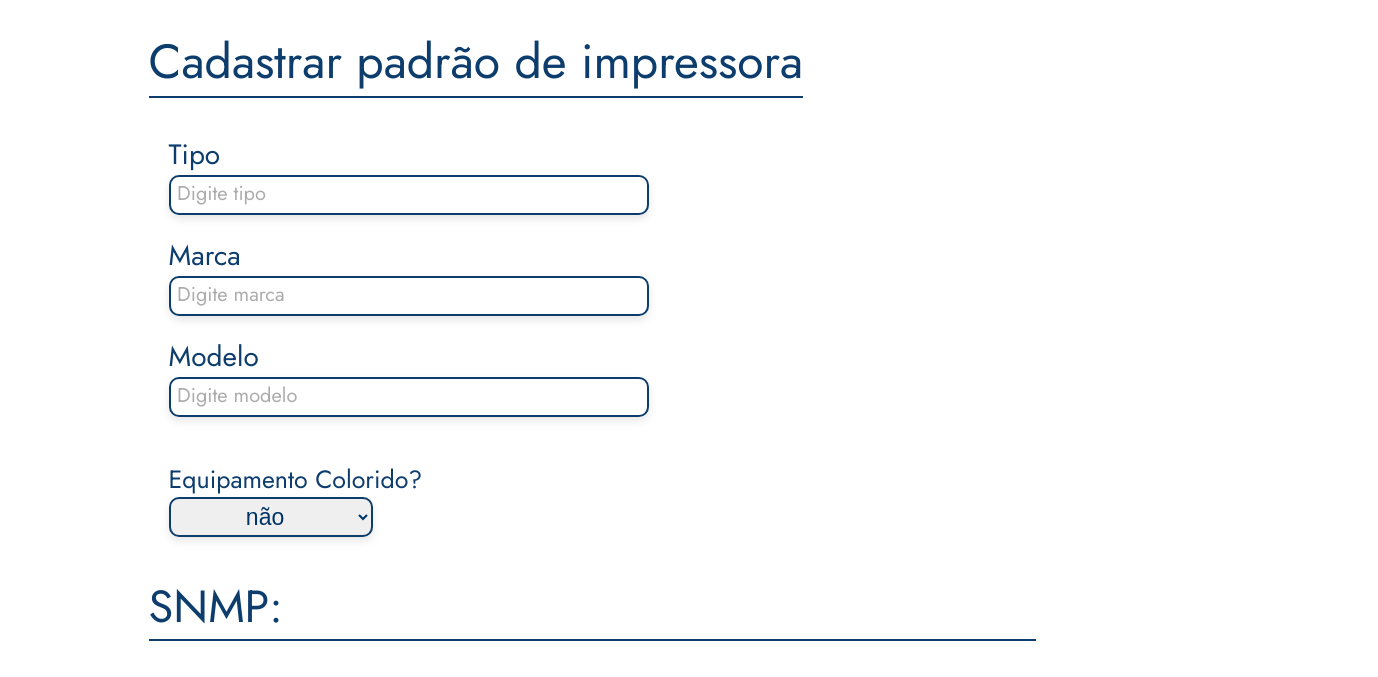
it: PatternPrinterPage › enables the submit button when all required fields are filled
Type "Laser" into the field with placeholder "Digite tipo".
click(409, 195); type("Laser")  # box [169, 175, 649, 215]
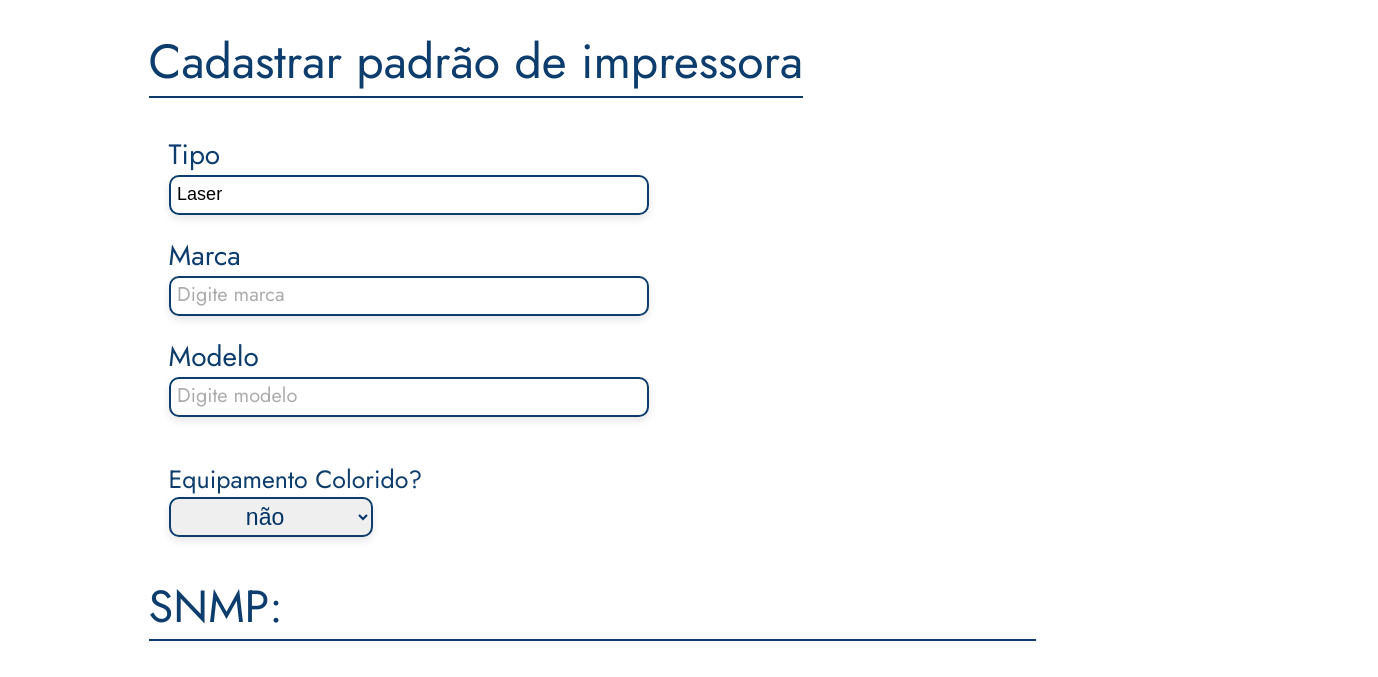
Type "HP" into the field with placeholder "Digite marca".
click(409, 296); type("HP")  # box [169, 276, 649, 316]
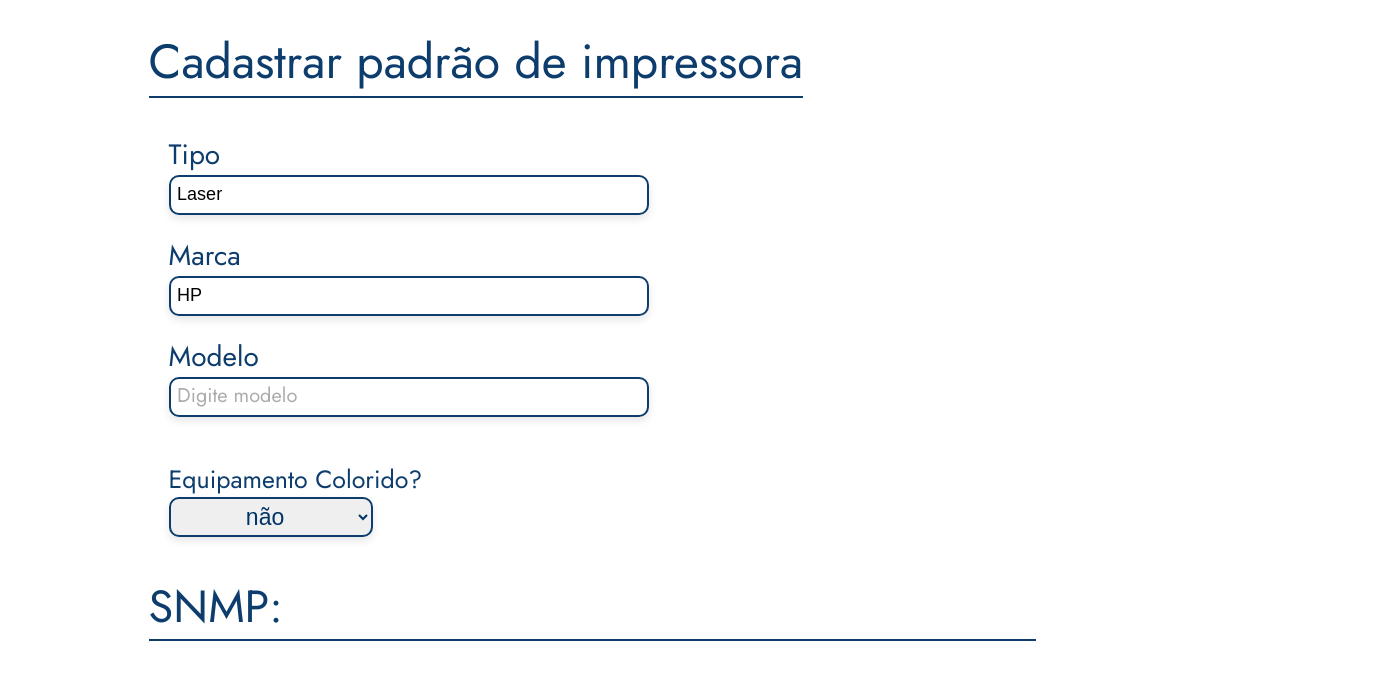
Type "Modelo123" into the field with placeholder "Digite modelo".
click(409, 397); type("Modelo123")  # box [169, 377, 649, 417]
(page scrolled)
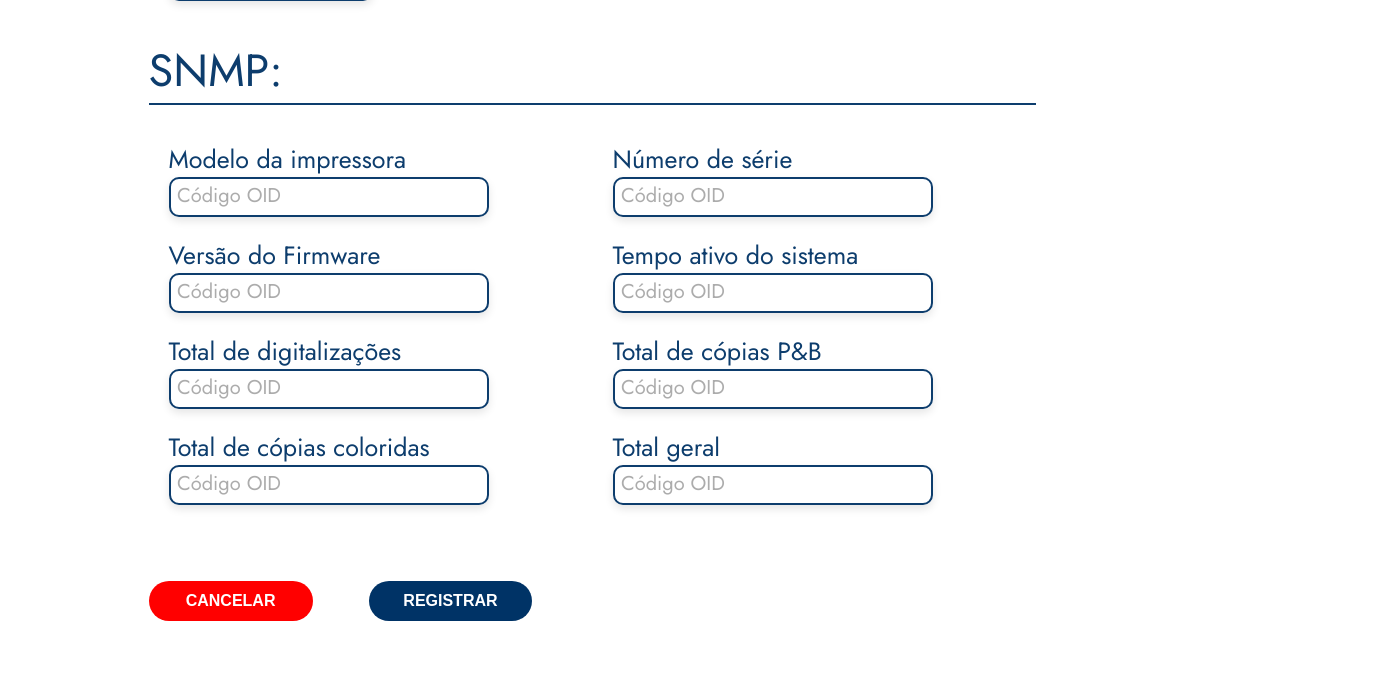
expect the button "REGISTRAR" is enabled: met, box [368, 581, 532, 621]
